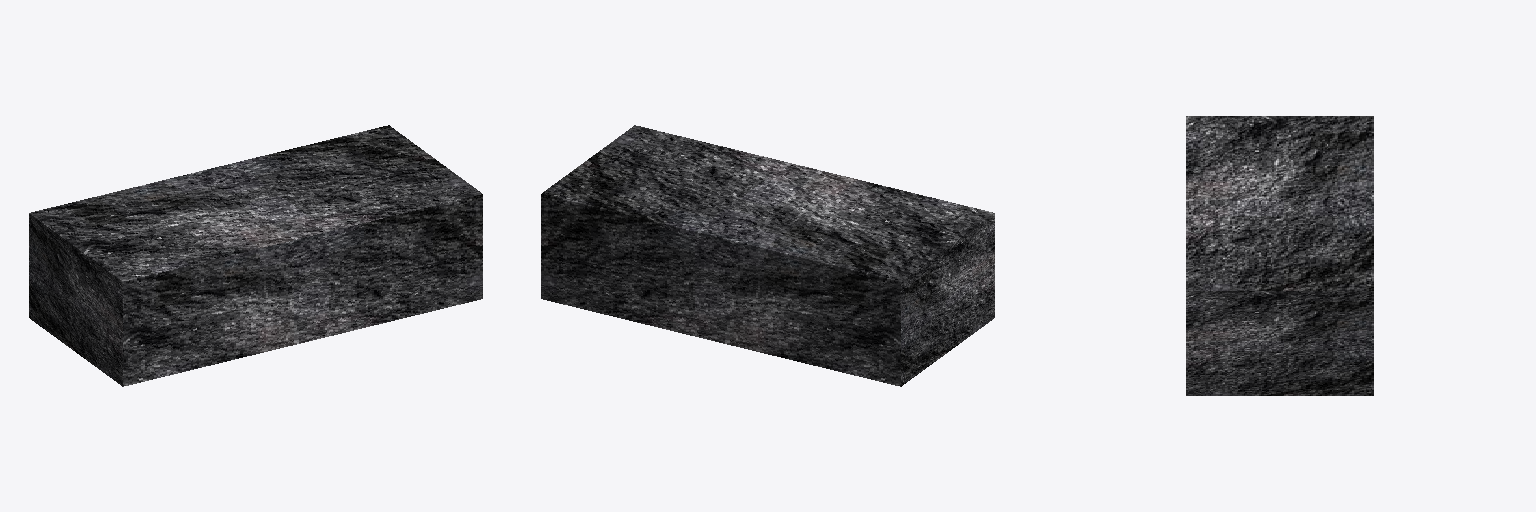
3 renders of one model, left to right at view 1: azimuth 30°, elevation 25°; view 2: azimuth 150°, elevation 25°; view 3: azimuth 270°, elevation 25°, orthographic.
Visible parts, largest first — view 1: Tin; view 2: Tin; view 3: Tin.
Boxes of the visible parts, x1=… form: Tin: x1=29, y1=125, x2=482, y2=386; Tin: x1=541, y1=125, x2=994, y2=386; Tin: x1=1186, y1=116, x2=1373, y2=395.
Size of the model in its own units: 0.3846 by 0.1071 by 0.1741.
Materials: 1 (1 with a texture image).